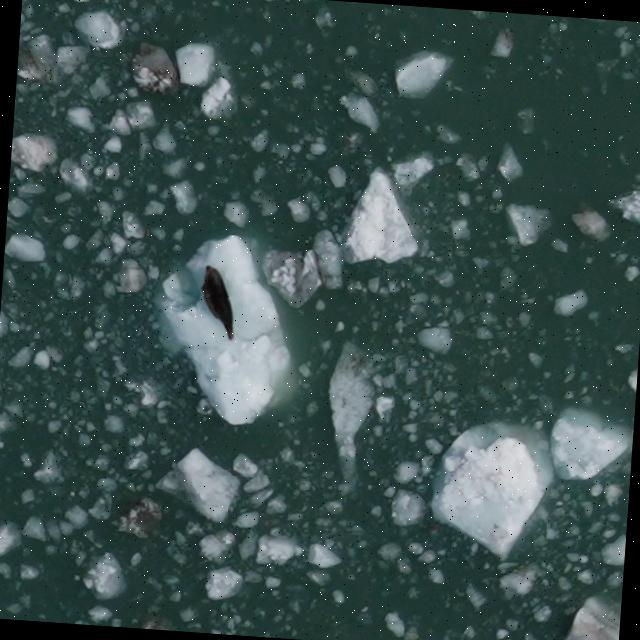seal: (193, 262, 245, 345)
